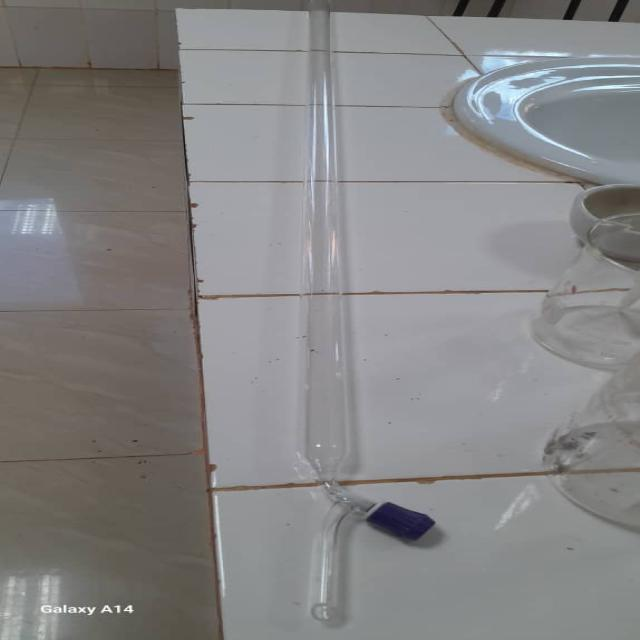Column Chromatography: (280, 15, 456, 619)
